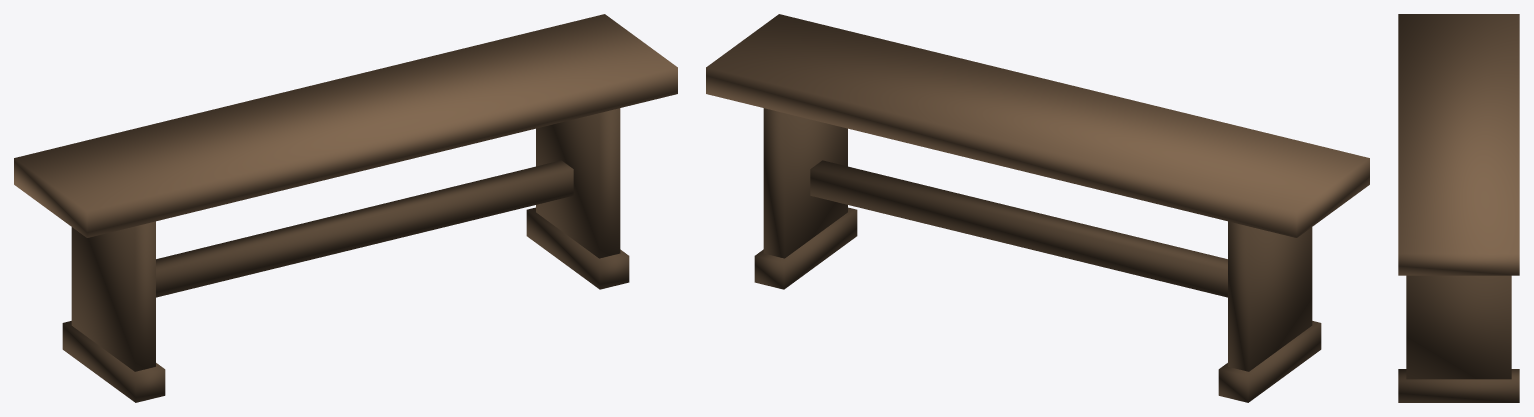
Rendered from mueble-banco.glb.
The picture shows the model from 3 angles, left to right: view 1: azimuth 30°, elevation 25°; view 2: azimuth 150°, elevation 25°; view 3: azimuth 270°, elevation 25°; orthographic projection. The views are drawn at different scales.
Parts seen in each view (by area): view 1: Mueble_banco; view 2: Mueble_banco; view 3: Mueble_banco.
Part boxes in pixels (x1,y1,x2,y2): Mueble_banco: (14,14,677,402); Mueble_banco: (706,14,1369,402); Mueble_banco: (1398,14,1519,402).
Size of the model in its own units: 1.4 by 0.46 by 0.3.
